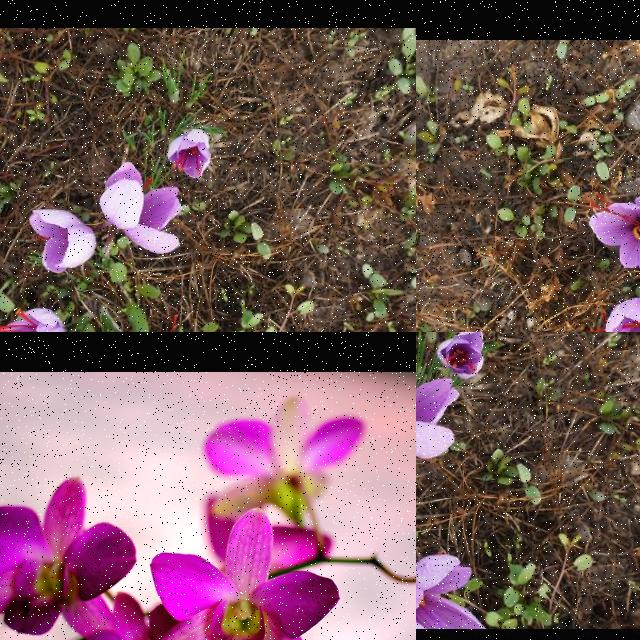flower: (100, 162, 184, 254), (416, 554, 485, 630), (416, 342, 459, 459), (587, 191, 640, 275), (29, 210, 97, 274), (437, 332, 484, 378), (168, 130, 212, 178), (0, 310, 66, 332), (133, 315, 202, 332)
